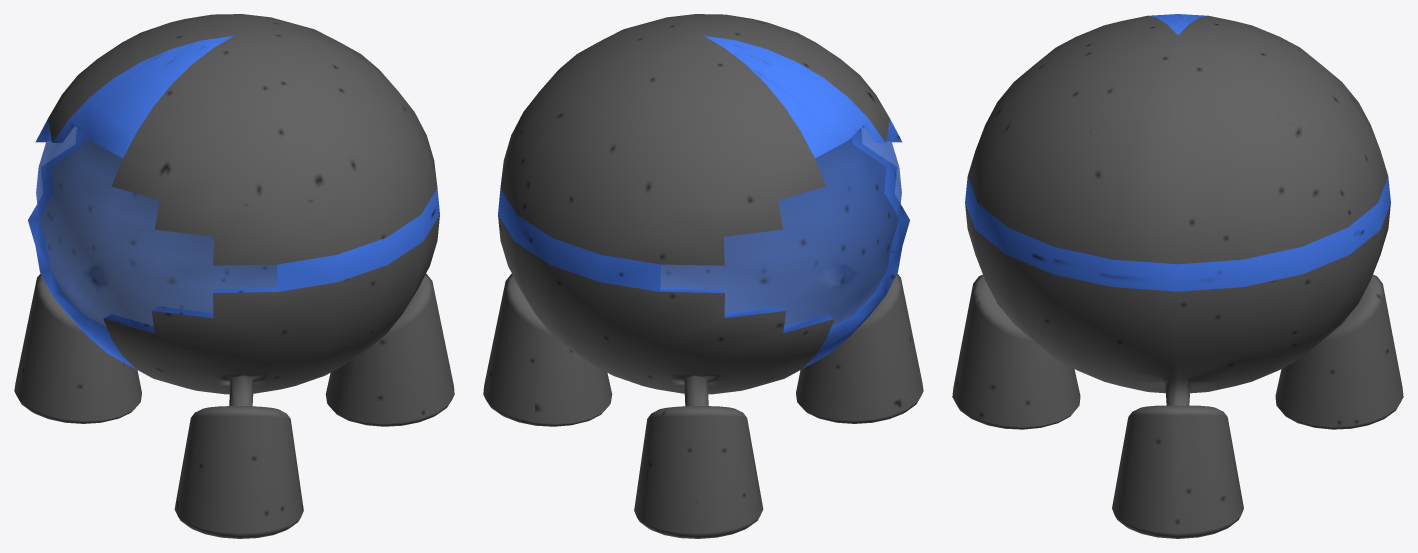
Rendered from PodDanUV.fbx.
3 renders of one model, left to right at view 1: azimuth 30°, elevation 25°; view 2: azimuth 150°, elevation 25°; view 3: azimuth 270°, elevation 25°, orthographic.
Parts seen in each view (by area): view 1: Escape_Pod:polySurface16; view 2: Escape_Pod:polySurface16; view 3: Escape_Pod:polySurface16.
Boxes of the visible parts, x1,y1,x2,y2 form: Escape_Pod:polySurface16: (14, 14, 454, 538); Escape_Pod:polySurface16: (483, 14, 923, 538); Escape_Pod:polySurface16: (952, 14, 1403, 538).
Size of the model in its own units: 2.91 by 2.97 by 2.98.
